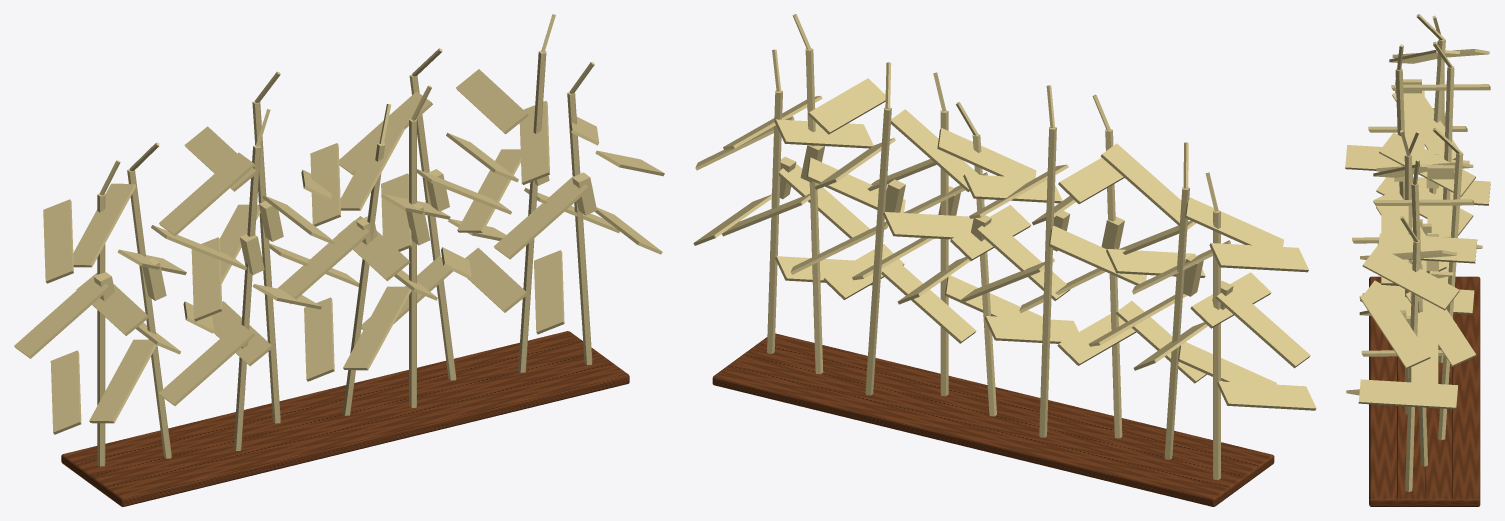
Rendered from halloween-slasher-street-cornfield-row-90837e3b__27293.glb.
3 views of the same model, side by side, from view 1: azimuth 30°, elevation 25°; view 2: azimuth 150°, elevation 25°; view 3: azimuth 270°, elevation 25° (orthographic). The views are drawn at different scales.
Parts seen in each view (by area): view 1: cornfield-row; view 2: cornfield-row; view 3: cornfield-row.
Boxes of the visible parts, left/top/right/bottom form: cornfield-row: left=14, top=14, right=664, bottom=506; cornfield-row: left=693, top=14, right=1316, bottom=506; cornfield-row: left=1345, top=14, right=1490, bottom=506.
Bounding box in the file's own units: 4.81 × 2.66 × 1.07.
Materials: 2 (1 with a texture image).
